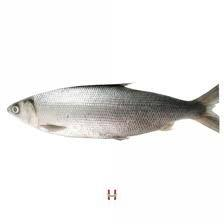Bangus: (6, 81, 220, 144)
